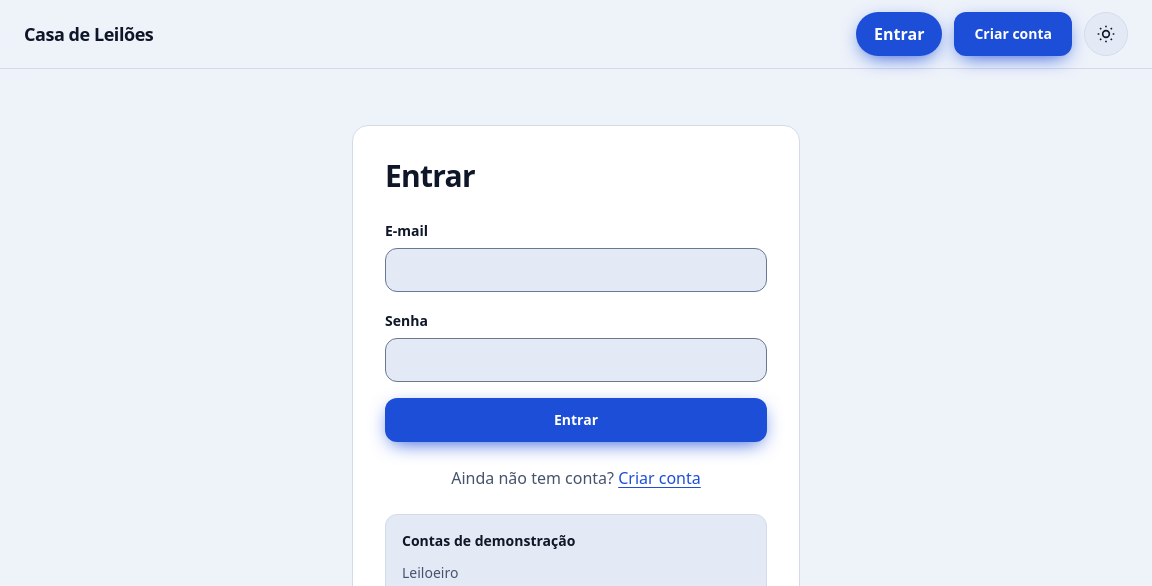
Scenario: /entrar › CREDENCIAIS_INVALIDAS mostra a mensagem em role="alert"
This screenshot has width=1152, height=586.
Type "a@b.co" into the field labelled "E-mail" at (576, 270), box x1=385 y1=248 x2=767 y2=292
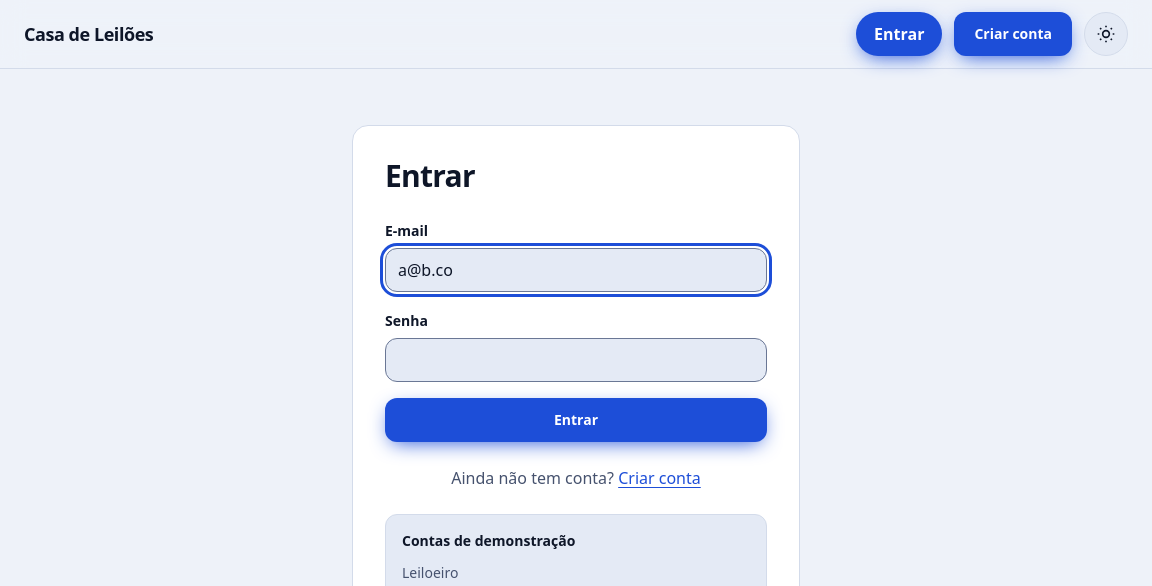
Type "errada" into the password field labelled "Senha" at (576, 360), box x1=385 y1=338 x2=767 y2=382
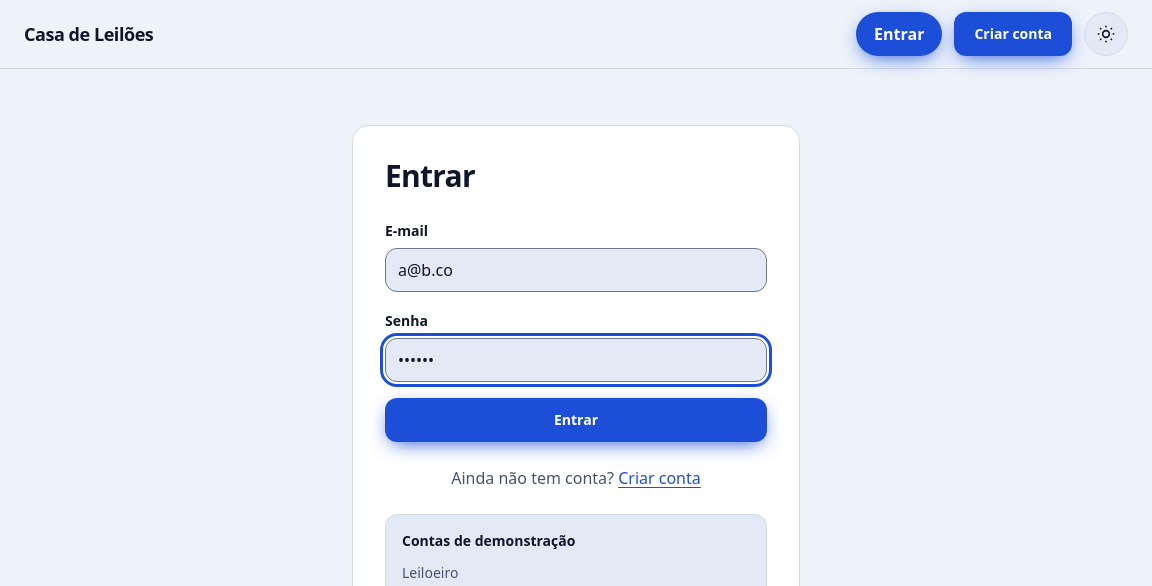
Click the button "Entrar" at (576, 420), box x1=385 y1=398 x2=767 y2=442
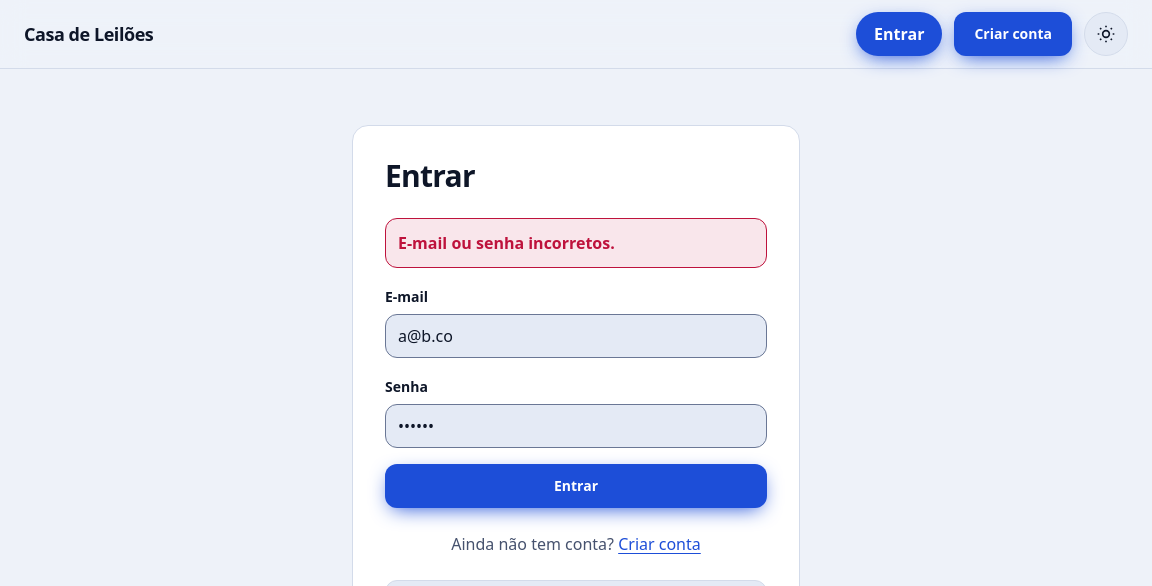
expect the message reads "E-mail ou senha incorretos.": met, box x1=398 y1=232 x2=615 y2=254
